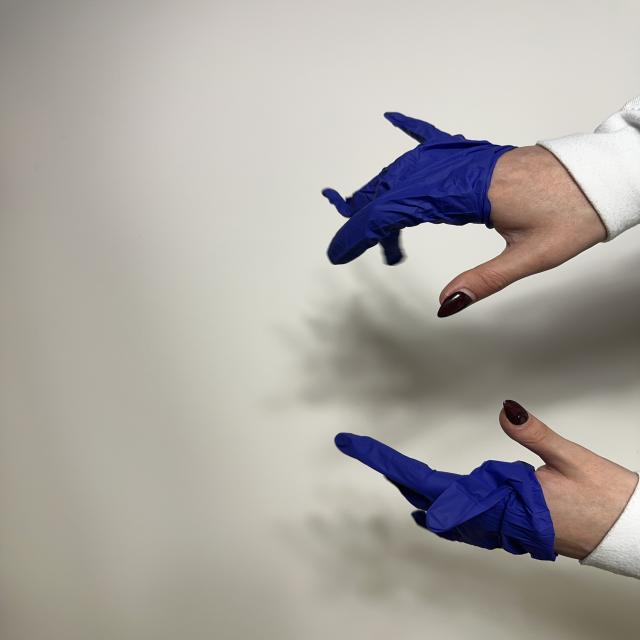glove_partial: (323, 113, 606, 317), (335, 400, 637, 561)
